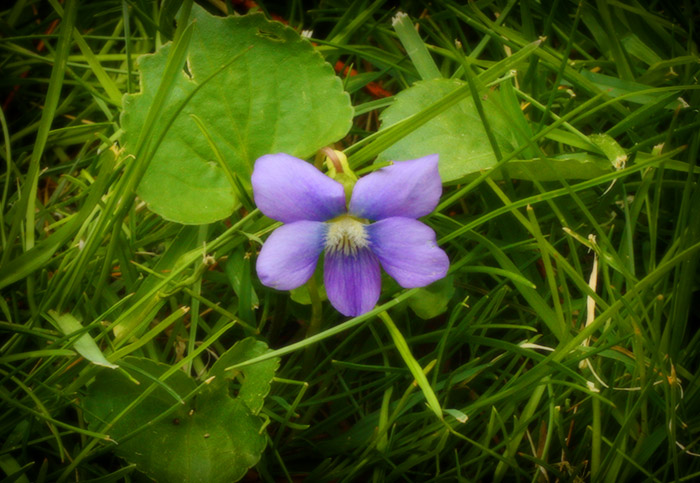violet: (243, 142, 457, 320)
